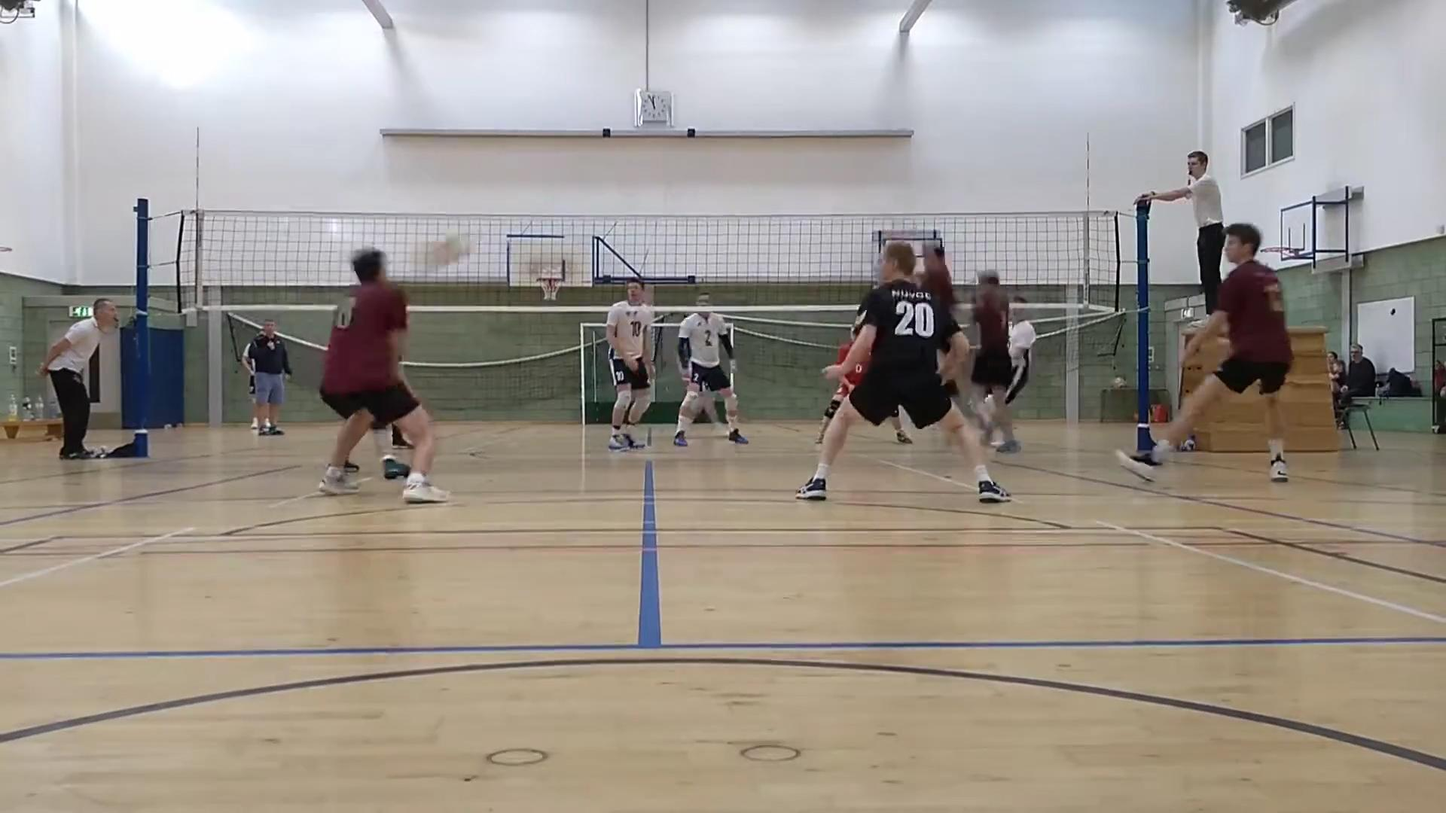difesa: (305, 233, 450, 507)
